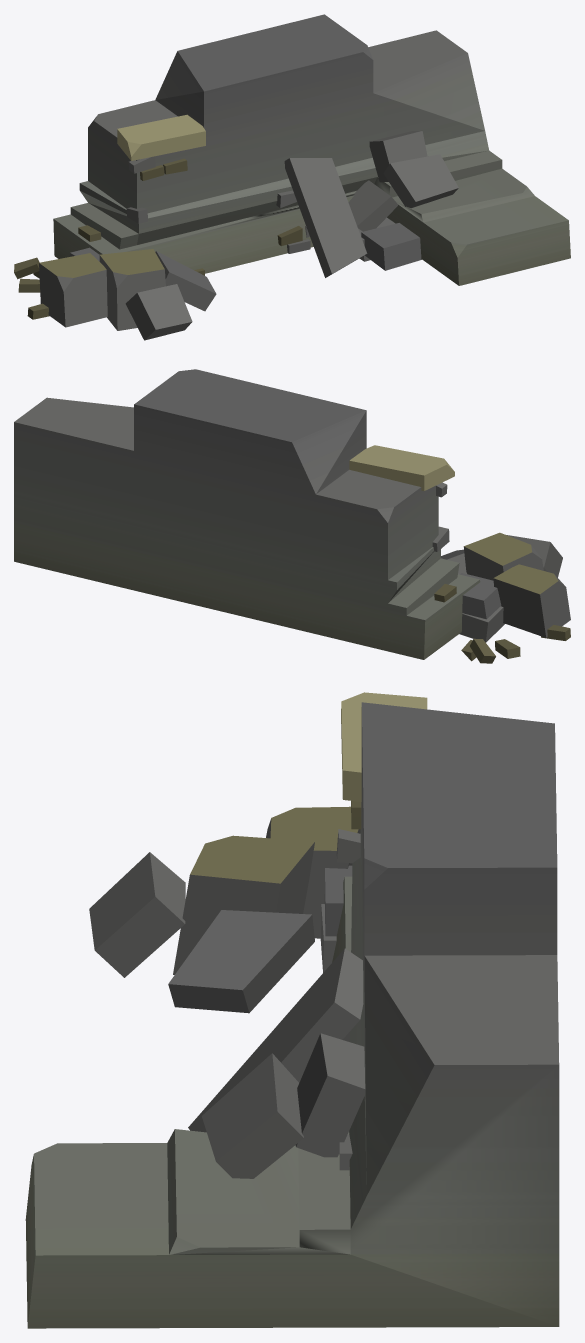
The model's file is ea_arch_wall04_ruin_01b_pre_1_lev1.glb.
3 renders of one model, top to bottom at view 1: azimuth 30°, elevation 25°; view 2: azimuth 150°, elevation 25°; view 3: azimuth 270°, elevation 25°, orthographic. The views are drawn at different scales.
Parts seen in each view (by area): view 1: ea_arch_wall04_ruin_01b_pre_1_lev1; view 2: ea_arch_wall04_ruin_01b_pre_1_lev1; view 3: ea_arch_wall04_ruin_01b_pre_1_lev1.
Part boxes in pixels (x1,y1,x2,y2): ea_arch_wall04_ruin_01b_pre_1_lev1: (14, 14, 570, 340); ea_arch_wall04_ruin_01b_pre_1_lev1: (14, 369, 570, 663); ea_arch_wall04_ruin_01b_pre_1_lev1: (25, 692, 559, 1328).
Size of the model in its own units: 4.07 by 1.52 by 2.02.
1 material, 1 textured.
